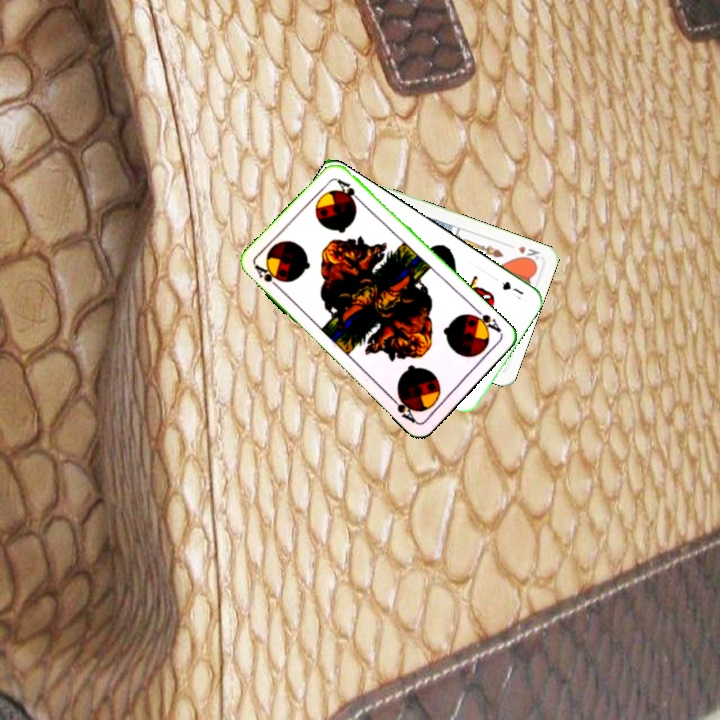GU: (497, 277, 526, 297)
HK: (514, 242, 542, 266)
SA: (467, 305, 504, 337), (251, 261, 285, 293)
